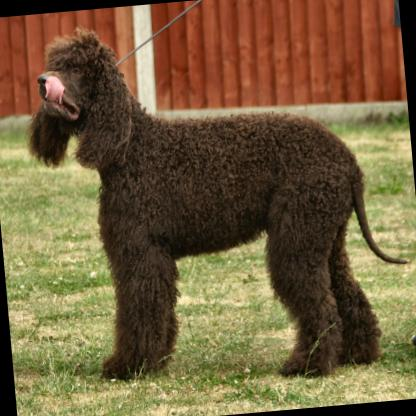Irish_water_spaniel: (19, 1, 416, 400)
